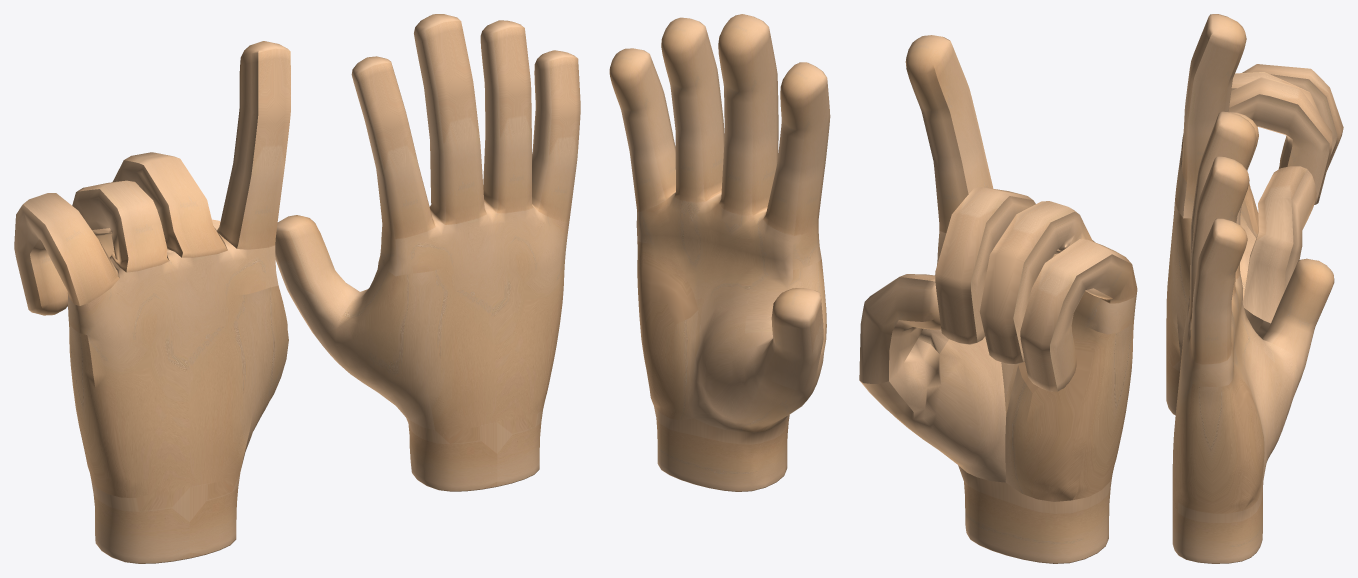
File: manoseis16.fbx
3 renders of one model, left to right at view 1: azimuth 30°, elevation 25°; view 2: azimuth 150°, elevation 25°; view 3: azimuth 270°, elevation 25°, orthographic. The views are drawn at different scales.
Visible parts, largest first — view 1: uploads_files_810024_Hand.001; view 2: uploads_files_810024_Hand.001; view 3: uploads_files_810024_Hand.001.
Boxes of the visible parts, <box> form: uploads_files_810024_Hand.001: <box>14,14,580,563</box>; uploads_files_810024_Hand.001: <box>609,14,1137,563</box>; uploads_files_810024_Hand.001: <box>1166,14,1343,563</box>.
Size of the model in its own units: 1.69 by 1.5 by 0.5597.
Materials: 2 (2 with a texture image).
